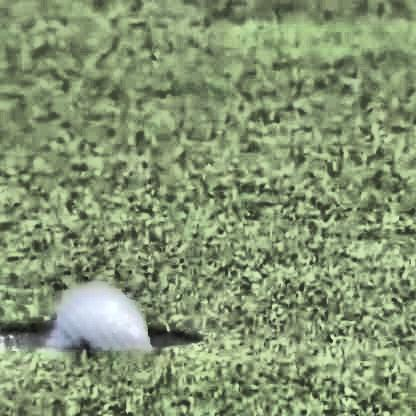golfball: (45, 298, 153, 368)
